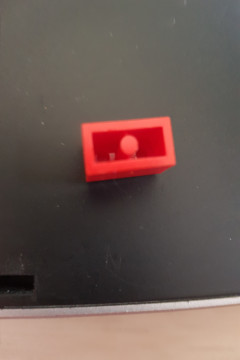1x2 red: (79, 114, 184, 184)
